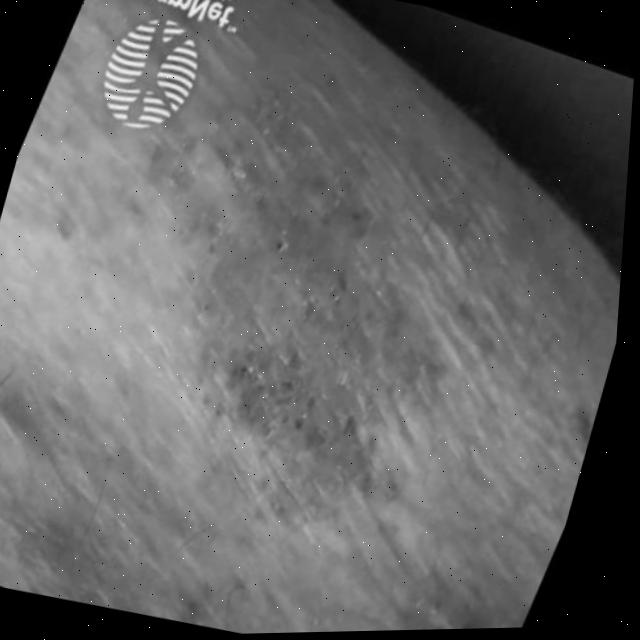Eczema: (143, 165, 449, 491)
